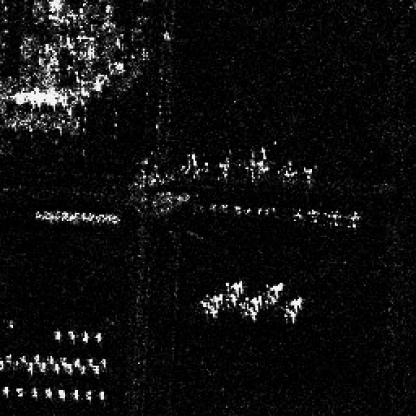airplane: (344, 208, 362, 229), (322, 208, 341, 226), (304, 206, 323, 221), (289, 206, 306, 221), (80, 330, 90, 343), (96, 388, 106, 400), (83, 388, 91, 402), (89, 364, 99, 374), (92, 332, 102, 341), (70, 387, 78, 398), (54, 330, 62, 341), (44, 385, 52, 395), (31, 385, 39, 395), (14, 385, 22, 395), (58, 356, 66, 366), (1, 384, 10, 392), (98, 358, 106, 367), (0, 357, 6, 368), (84, 358, 92, 366), (56, 387, 63, 396), (73, 358, 80, 367), (78, 364, 84, 374), (65, 362, 71, 372), (52, 362, 58, 372), (33, 354, 39, 364), (67, 330, 73, 340), (46, 356, 53, 364), (39, 361, 45, 369), (26, 364, 32, 372), (18, 356, 26, 362)
